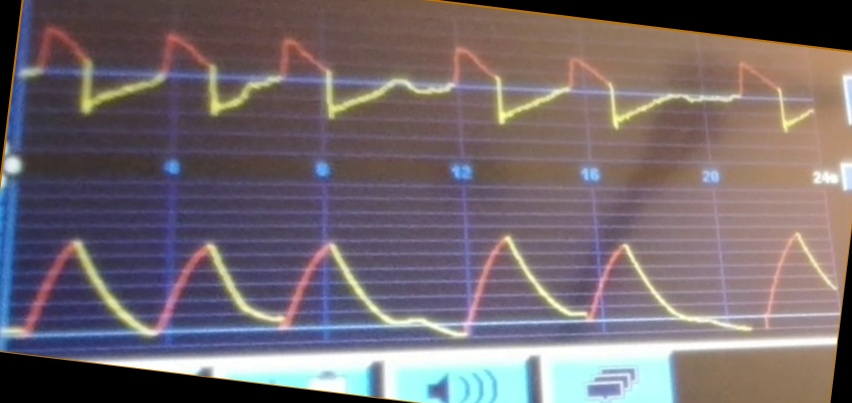Ineffective_effort Flow: (27, 22, 812, 141)
Ineffective_effort Volume: (14, 226, 835, 336)
